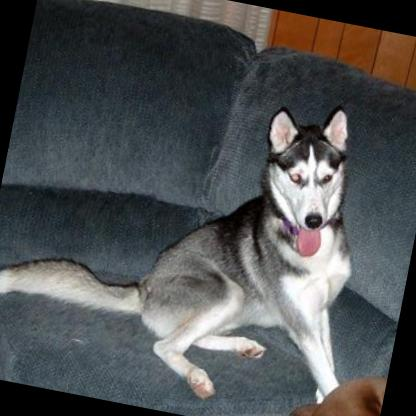Siberian_husky: (0, 46, 390, 416)
